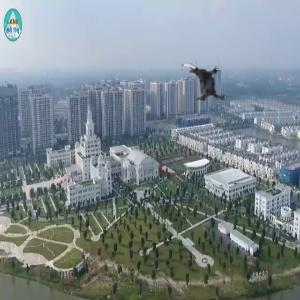drone: (179, 57, 233, 111)
